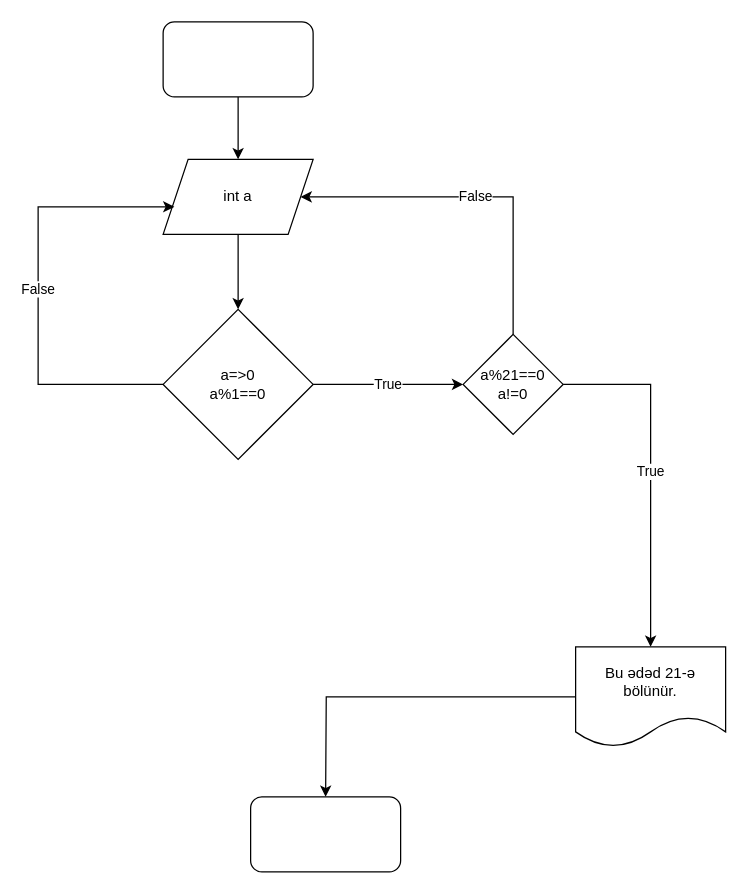
This 748x894 diagram has some shape labels left out. The centre of each missing label's shape, as x and y in pixels:
"Finish" belongs at [325,834].
"Start" belongs at [237,59].
